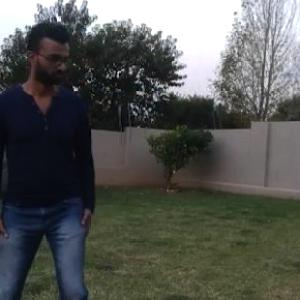follow: (0, 1, 109, 299)
